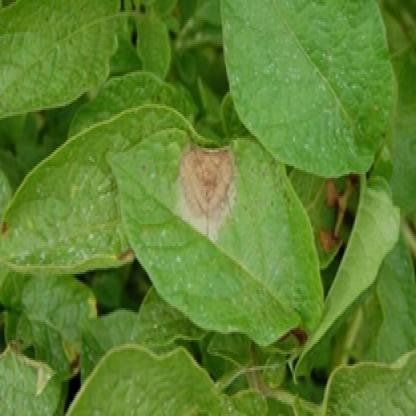Potato leaf late blight: (108, 126, 332, 350)
